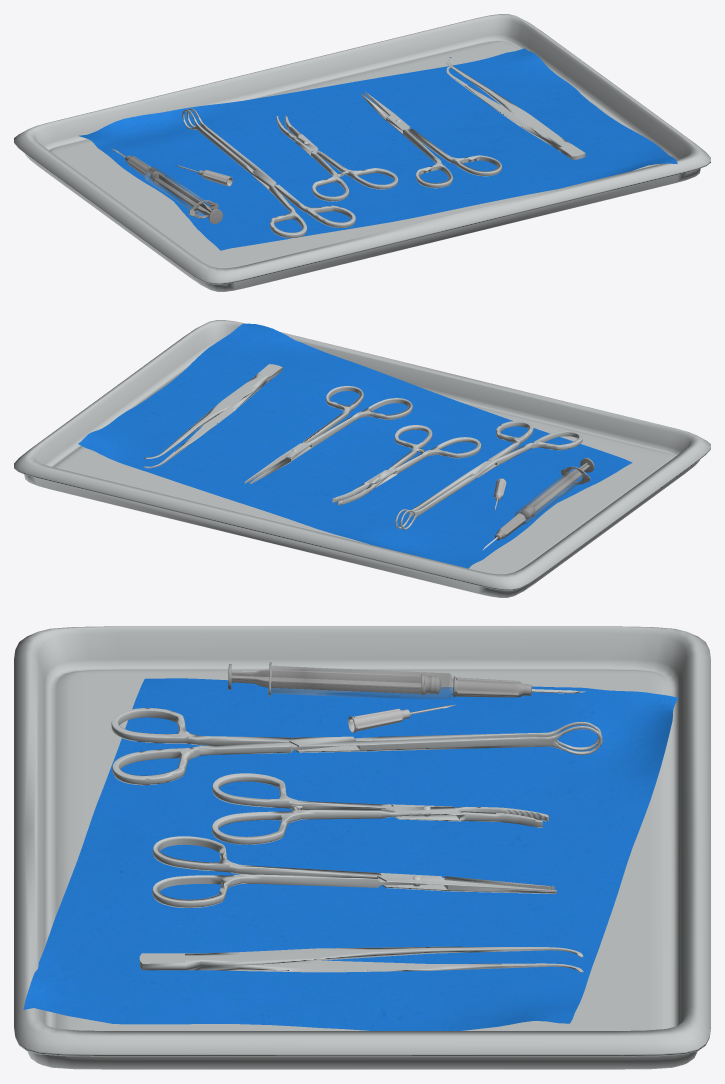
The model's file is surgical-tool-set.glb.
The picture shows the model from 3 angles, top to bottom: view 1: azimuth 30°, elevation 25°; view 2: azimuth 150°, elevation 25°; view 3: azimuth 270°, elevation 25°; orthographic projection. The views are drawn at different scales.
Visible parts, largest first — view 1: Towel, Tray, ScissorsType1, ScissorrsType3, Forcep, ScissorrsType2, SyringeOne, SyringeTube; view 2: Towel, Tray, ScissorsType1, ScissorrsType3, ScissorrsType2, Forcep, SyringeOne, SyringeTube; view 3: Towel, Tray, ScissorsType1, ScissorrsType3, Forcep, ScissorrsType2, SyringeOne, SyringeTube, SyringeCap.
Boxes of the visible parts, bbox=[...] form: Towel: bbox=[79, 48, 677, 250]; Tray: bbox=[14, 14, 710, 291]; ScissorsType1: bbox=[182, 108, 355, 238]; ScissorrsType3: bbox=[361, 92, 501, 188]; Forcep: bbox=[446, 57, 585, 159]; ScissorrsType2: bbox=[276, 115, 398, 201]; SyringeOne: bbox=[111, 148, 222, 223]; SyringeTube: bbox=[144, 167, 209, 215]; Towel: bbox=[78, 323, 632, 568]; Tray: bbox=[14, 320, 710, 597]; ScissorsType1: bbox=[395, 421, 582, 529]; ScissorrsType3: bbox=[244, 386, 412, 484]; ScissorrsType2: bbox=[332, 425, 481, 505]; Forcep: bbox=[143, 364, 282, 468]; SyringeOne: bbox=[482, 458, 594, 550]; SyringeTube: bbox=[515, 468, 582, 523]; Towel: bbox=[23, 678, 678, 1030]; Tray: bbox=[14, 626, 710, 1069]; ScissorsType1: bbox=[111, 708, 602, 785]; ScissorrsType3: bbox=[152, 836, 556, 907]; Forcep: bbox=[139, 946, 583, 972]; ScissorrsType2: bbox=[212, 773, 548, 844]; SyringeOne: bbox=[228, 662, 585, 697]; SyringeTube: bbox=[271, 666, 453, 698]; SyringeCap: bbox=[348, 704, 455, 733].
Bounding box in the file's own units: 0.5506 × 0.0338 × 0.3834.
Materials: 5 (5 with a texture image).
